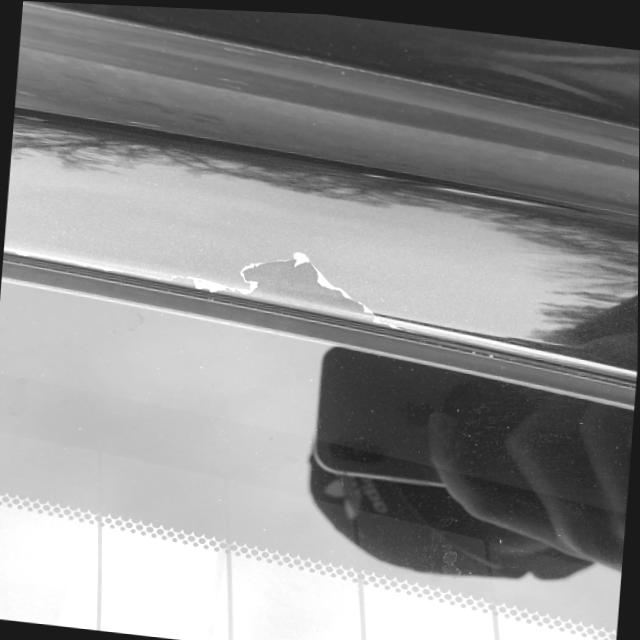Paint-fading: (158, 247, 411, 339)
